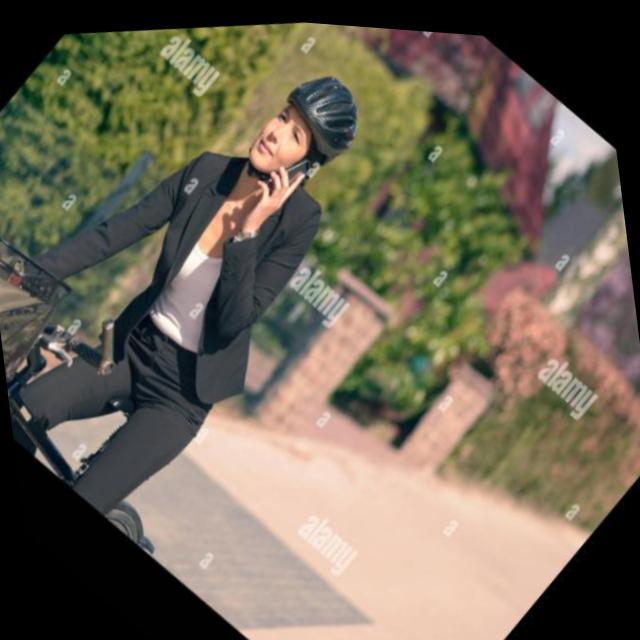USING_MOBILE: (142, 122, 374, 368)
